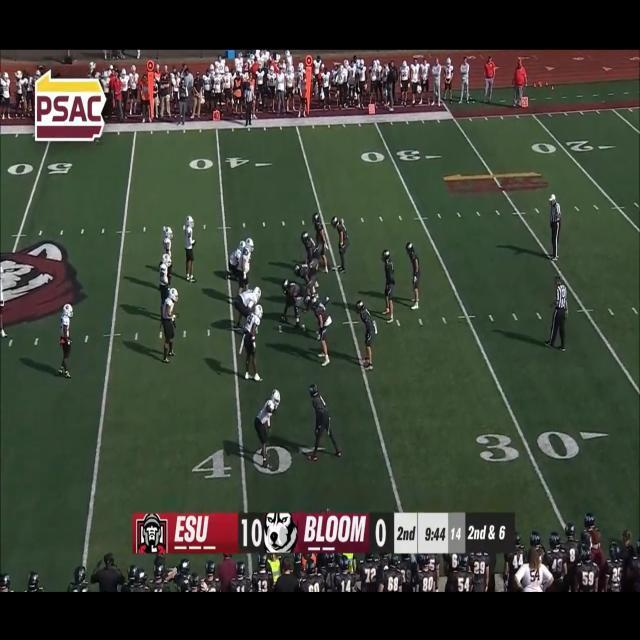football: (280, 313, 289, 323)
